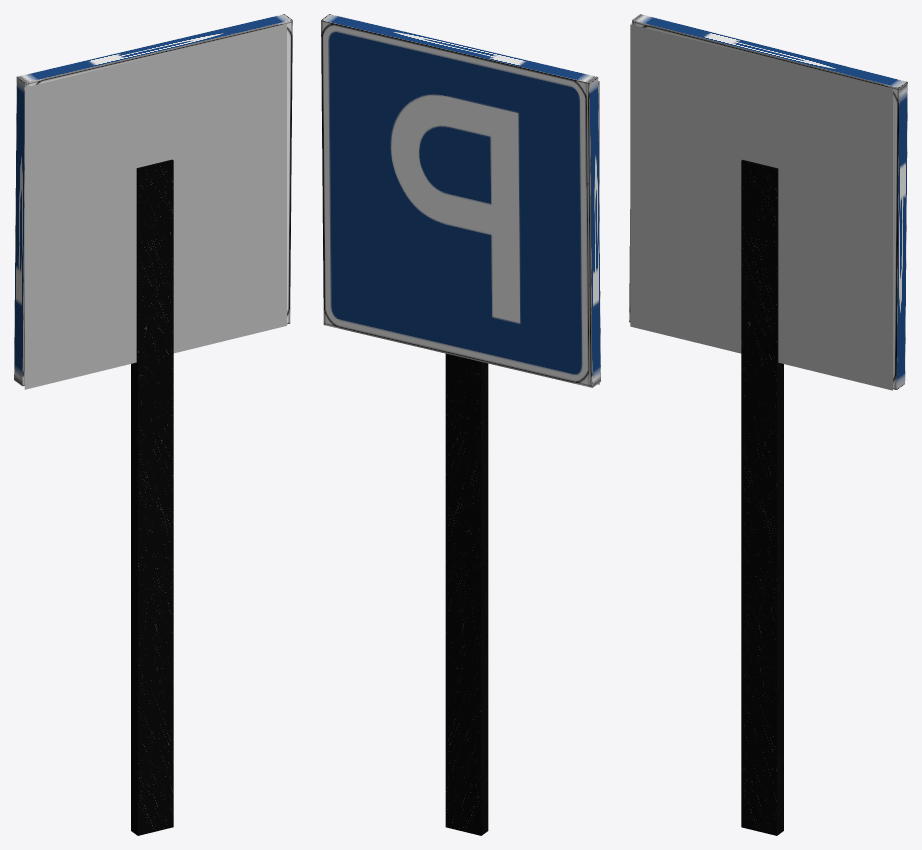
The model's file is ParkingSign.obj.
3 views of the same model, side by side, from view 1: azimuth 30°, elevation 25°; view 2: azimuth 150°, elevation 25°; view 3: azimuth 330°, elevation 25° (orthographic).
Parts seen in each view (by area): view 1: Plane, STOPALLM_1, Cube_Cube.001; view 2: Cube_Cube.001, STOPALLM_1; view 3: Plane, STOPALLM_1, Cube_Cube.001.
Boxes of the visible parts, x1,y1,x2,y2 form: Plane: (24,23,286,389); STOPALLM_1: (131,159,173,835); Cube_Cube.001: (14,14,292,386); Cube_Cube.001: (321,14,600,387); STOPALLM_1: (445,353,488,835); Plane: (630,24,892,390); STOPALLM_1: (741,159,783,835); Cube_Cube.001: (629,14,907,389).
Size of the model in its own units: 4.12 by 11.34 by 0.2659.
3 materials, 2 textured.
